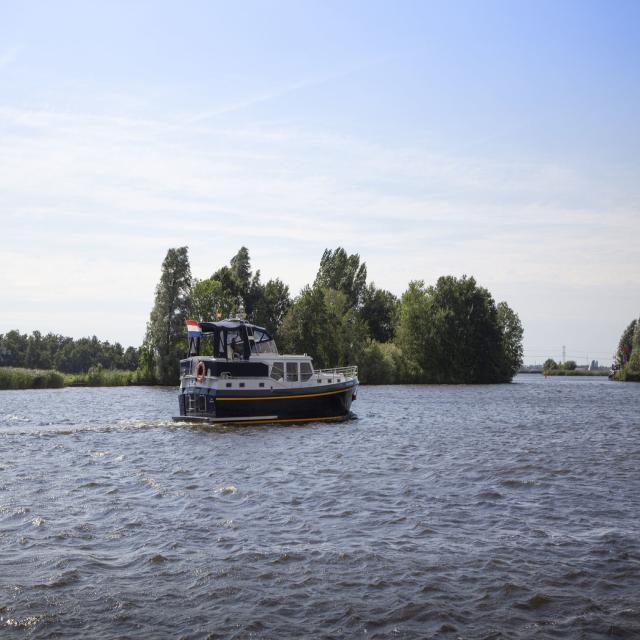houseboat: (180, 310, 374, 422)
